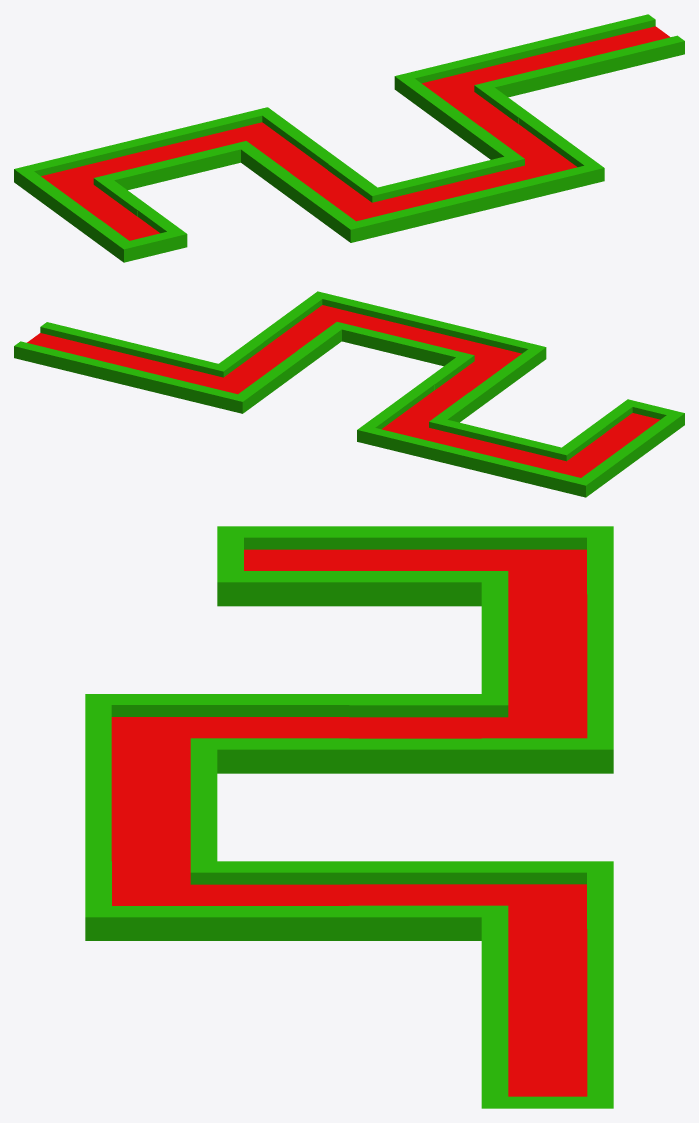
Rendered from level3_p1.FBX.
The picture shows the model from 3 angles, top to bottom: view 1: azimuth 30°, elevation 25°; view 2: azimuth 150°, elevation 25°; view 3: azimuth 270°, elevation 25°; orthographic projection. The views are drawn at different scales.
Parts seen in each view (by area): view 1: level_curvy; view 2: level_curvy; view 3: level_curvy.
Part boxes in pixels (x1,y1,x2,y2): level_curvy: (14,14,684,262); level_curvy: (14,291,684,497); level_curvy: (85,526,613,1108).
Bounding box in the file's own units: 1000 × 20 × 400.
